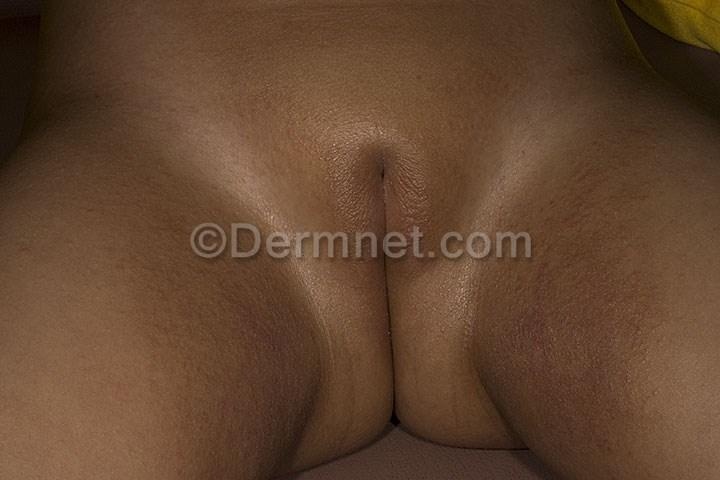eritema 1: (501, 248, 640, 453), (231, 295, 319, 467)
xerosis 1: (490, 240, 637, 478), (221, 276, 314, 456)
